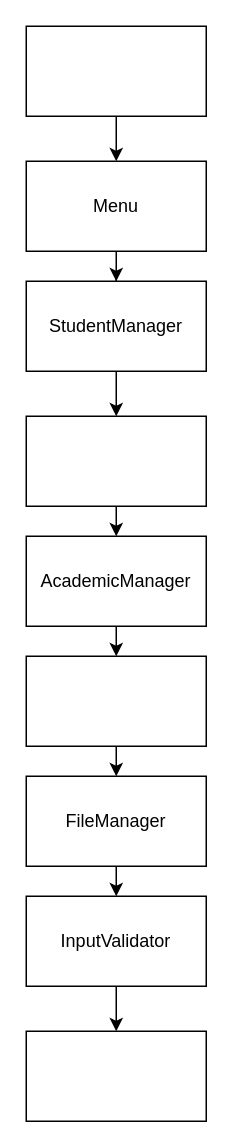
Image size: 233x1148. Some labels were removed from this diagram. The shapes that lost their labels are listed below. From the top down, each one's centre as x and y in pixels, then its label:
At pixel 115 70: "Main".
At pixel 115 460: "Student".
At pixel 115 700: "Marks".
